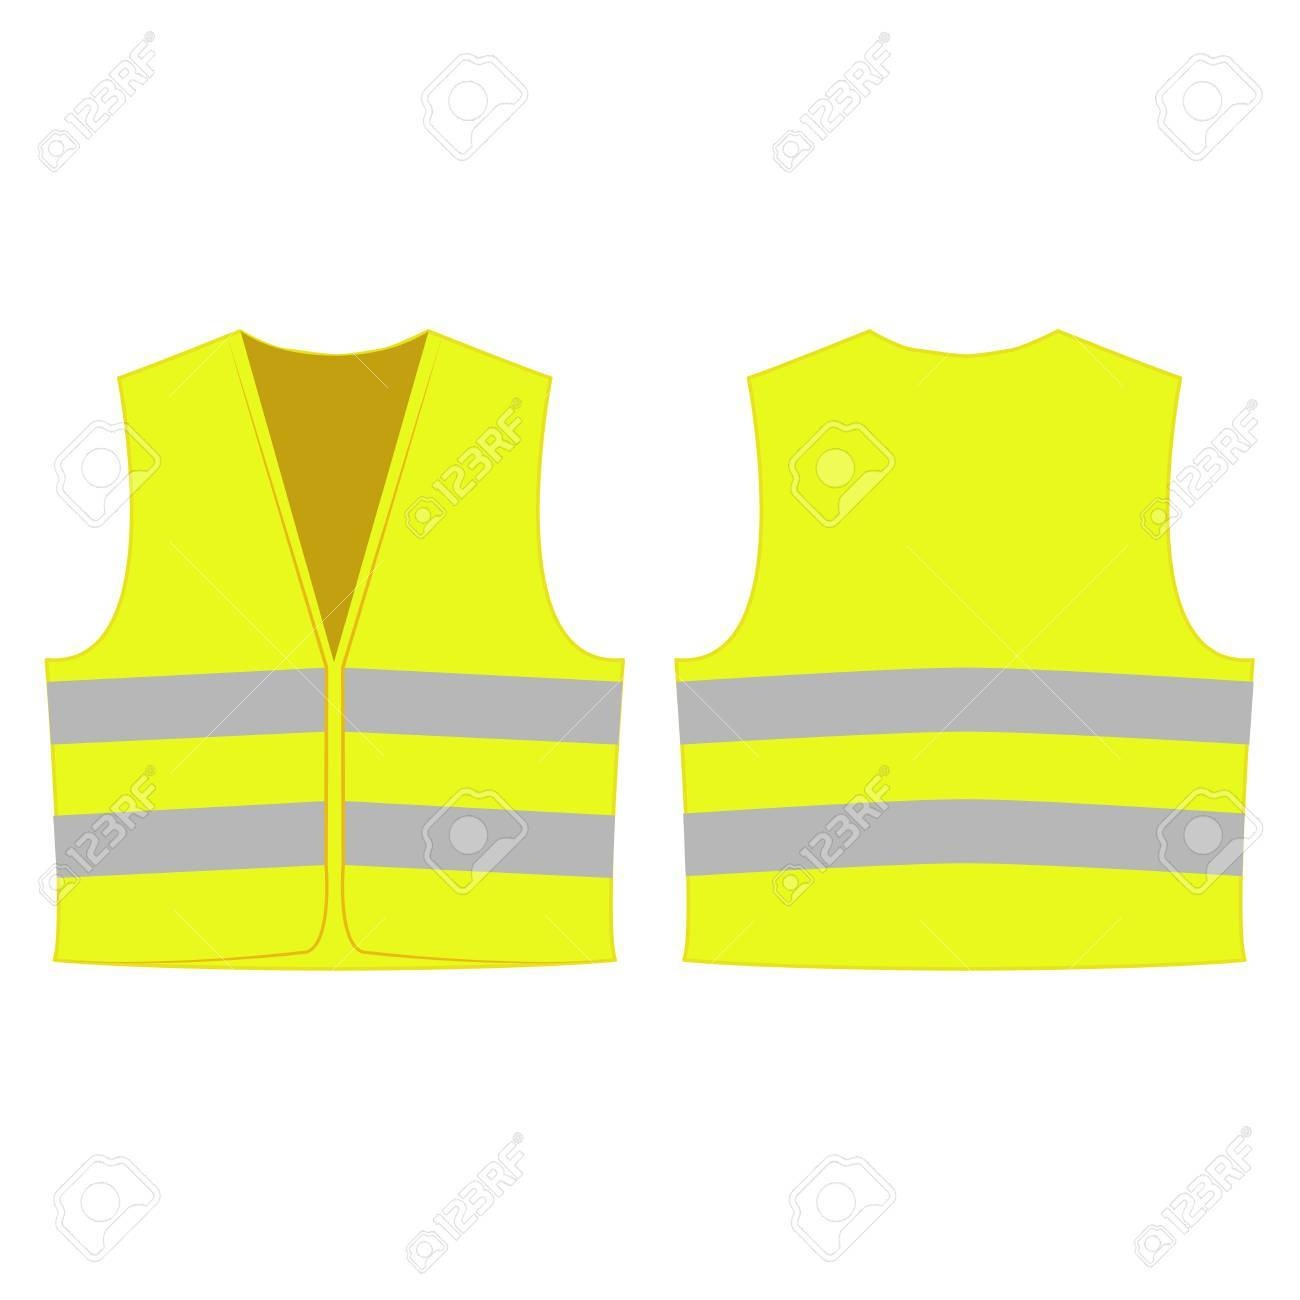safety vest: (38, 338, 624, 977), (688, 333, 1235, 963)
